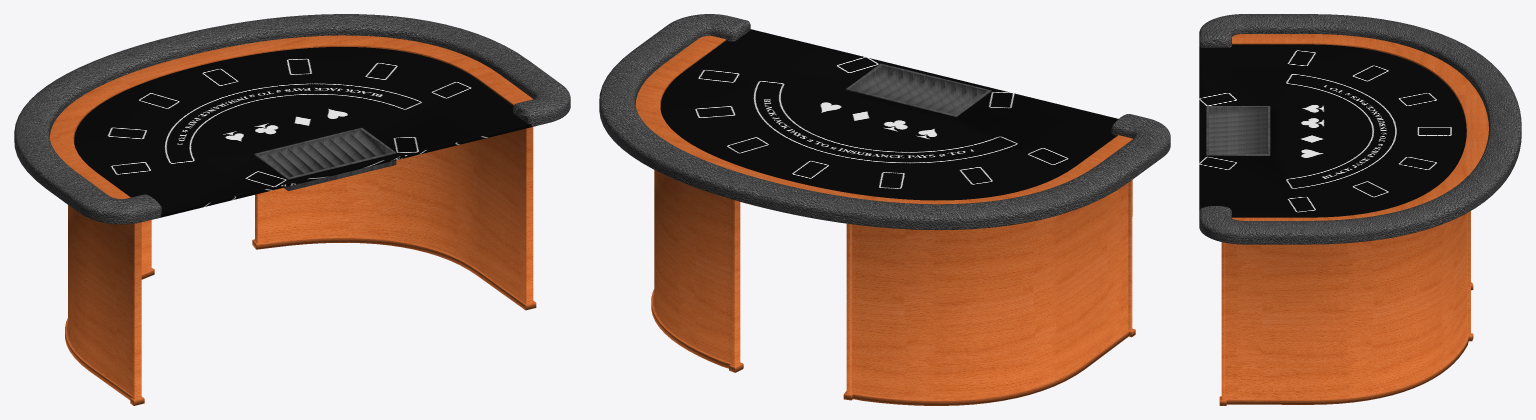
The model's file is Table.fbx.
3 renders of one model, left to right at view 1: azimuth 30°, elevation 25°; view 2: azimuth 150°, elevation 25°; view 3: azimuth 270°, elevation 25°, orthographic. The views are drawn at different scales.
Visible parts, largest first — view 1: Shape01.002, Shape05.002, Shape02.002, Shape04.002, Shape03.002, Cylinder1039.002; view 2: Shape04.002, Shape01.002, Shape02.002, Shape05.002, Shape03.002, Cylinder1039.002; view 3: Shape05.002, Shape01.002, Shape02.002, Shape03.002, Cylinder1039.002.
Boxes of the visible parts, bbox=[...] form: Shape01.002: bbox=[74, 47, 535, 218]; Shape05.002: bbox=[252, 127, 536, 310]; Shape02.002: bbox=[14, 14, 570, 224]; Shape04.002: bbox=[65, 135, 154, 405]; Shape03.002: bbox=[49, 35, 533, 199]; Cylinder1039.002: bbox=[254, 127, 396, 190]; Shape04.002: bbox=[843, 180, 1135, 405]; Shape01.002: bbox=[660, 29, 1117, 200]; Shape02.002: bbox=[599, 14, 1170, 230]; Shape05.002: bbox=[651, 103, 743, 372]; Shape03.002: bbox=[635, 35, 1132, 204]; Cylinder1039.002: bbox=[845, 63, 991, 116]; Shape05.002: bbox=[1219, 211, 1473, 405]; Shape01.002: bbox=[1199, 44, 1466, 217]; Shape02.002: bbox=[1199, 14, 1521, 244]; Shape03.002: bbox=[1232, 34, 1488, 220]; Cylinder1039.002: bbox=[1206, 106, 1270, 155].
Size of the model in its own units: 847 by 345 by 523.
